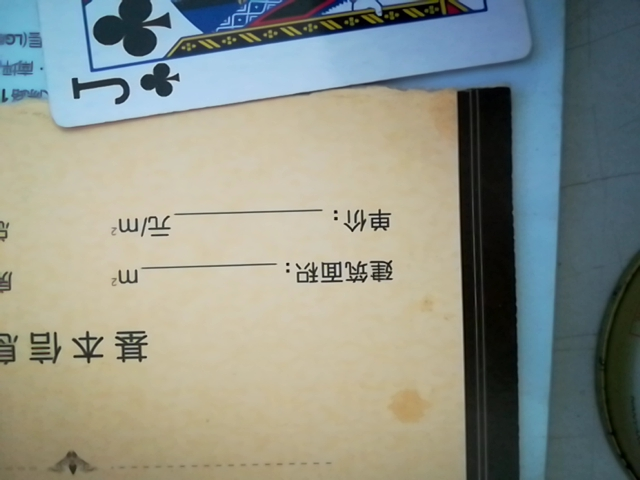mh j: (1, 0, 564, 132)
